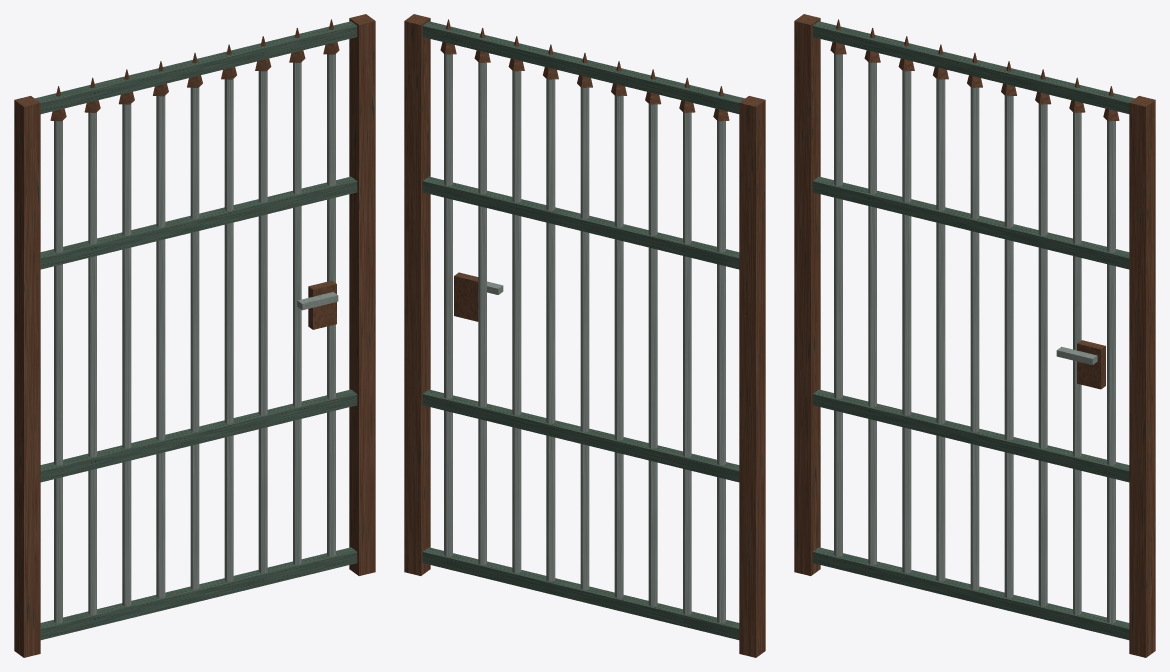
The model's file is IronGate.obj.
The picture shows the model from 3 angles, left to right: view 1: azimuth 30°, elevation 25°; view 2: azimuth 150°, elevation 25°; view 3: azimuth 330°, elevation 25°; orthographic projection.
Parts seen in each view (by area): view 1: IronGate; view 2: IronGate; view 3: IronGate.
Part boxes in pixels (x1,y1,x2,y2): IronGate: (14, 14, 375, 657); IronGate: (404, 14, 765, 657); IronGate: (794, 14, 1155, 657).
Size of the model in its own units: 1.47 by 2.23 by 0.1275.
3 materials, 3 textured.
